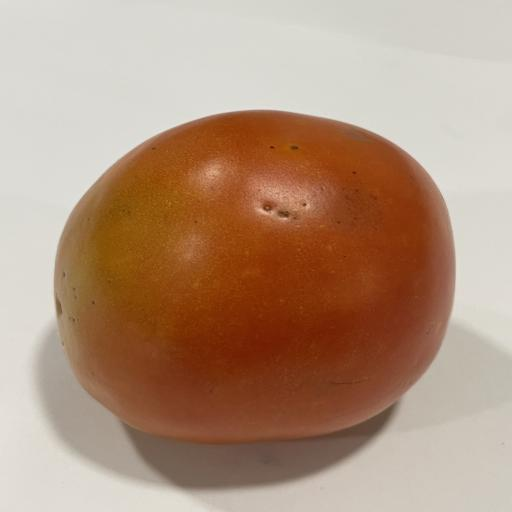ripe: (54, 111, 454, 444)
